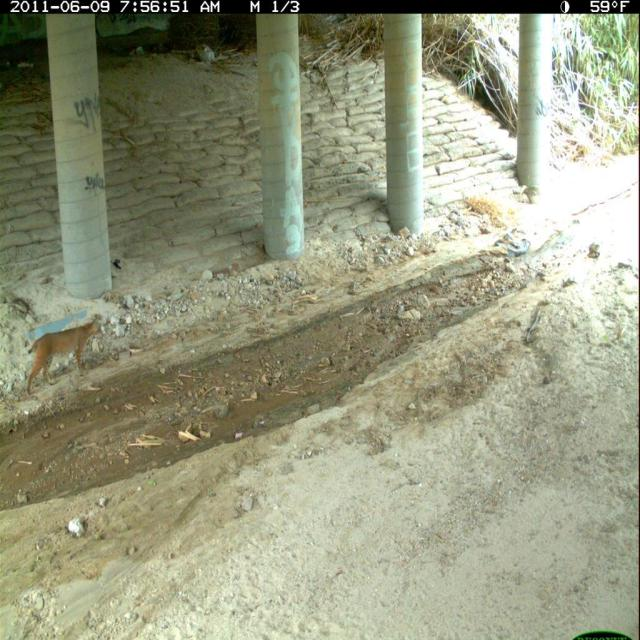bobcat: (25, 313, 106, 399)
